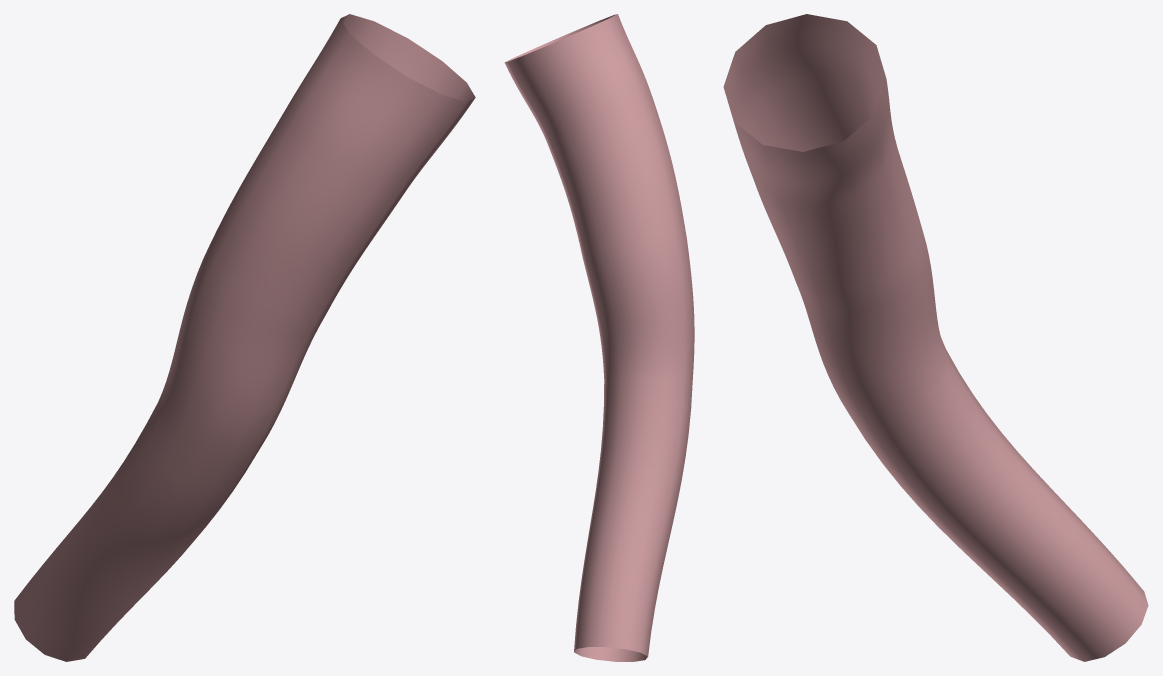
3 renders of one model, left to right at view 1: azimuth 30°, elevation 25°; view 2: azimuth 150°, elevation 25°; view 3: azimuth 270°, elevation 25°, orthographic. The views are drawn at different scales.
Visible parts, largest first — view 1: ZA_b29140dbfafa29f5; view 2: ZA_b29140dbfafa29f5; view 3: ZA_b29140dbfafa29f5.
Part boxes in pixels (x1,y1,x2,y2): ZA_b29140dbfafa29f5: [14, 14, 475, 661]; ZA_b29140dbfafa29f5: [504, 14, 694, 661]; ZA_b29140dbfafa29f5: [723, 14, 1148, 661].
Bounding box in the file's own units: 0.0312 × 0.067 × 0.0362.
